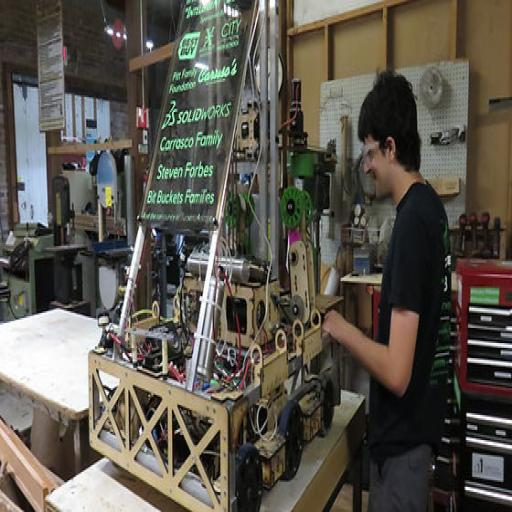robot: (80, 5, 353, 499)
